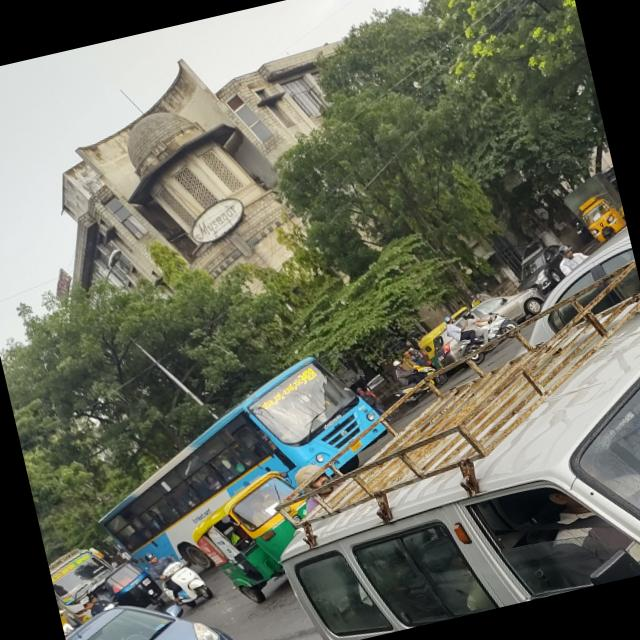bus: (62, 335, 414, 588)
display: (240, 354, 344, 422)
dnumber: (294, 363, 322, 387)
